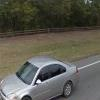Car: (3, 46, 83, 100)
